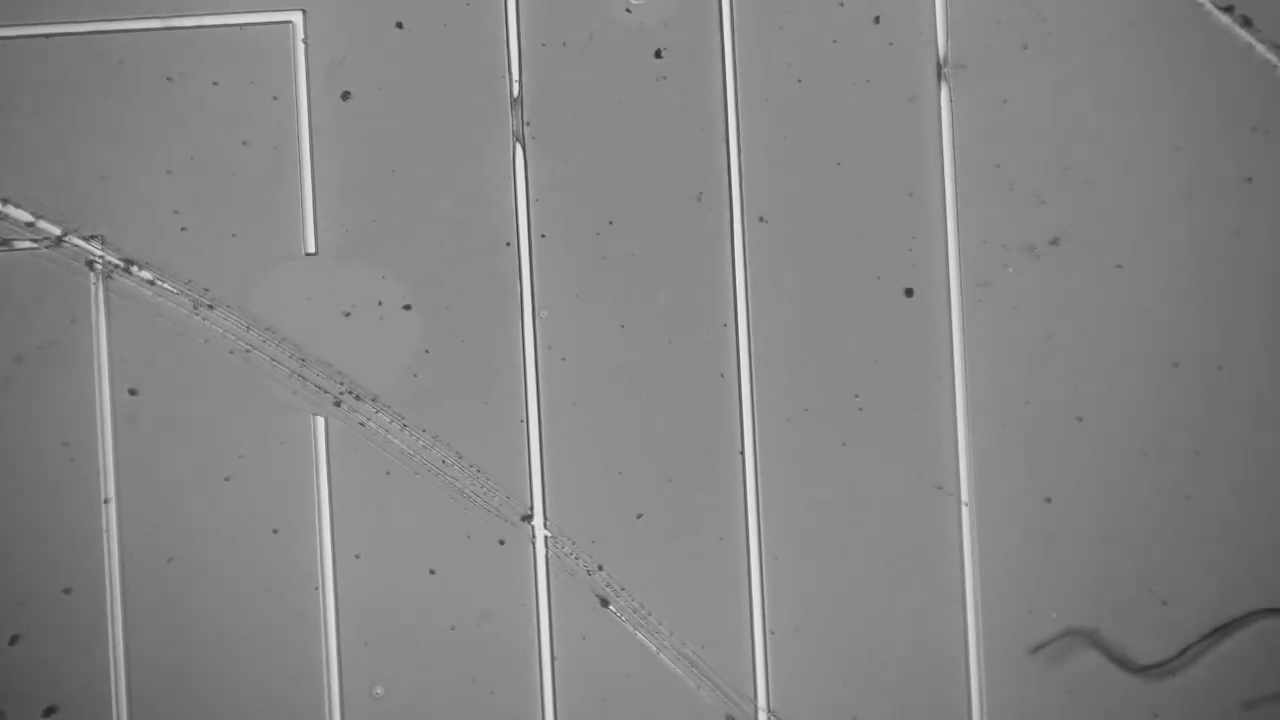gray_line: (915, 36, 965, 114), (498, 74, 532, 159)
open: (288, 229, 337, 442)
scratch: (153, 275, 759, 712), (1161, 3, 1279, 94)
